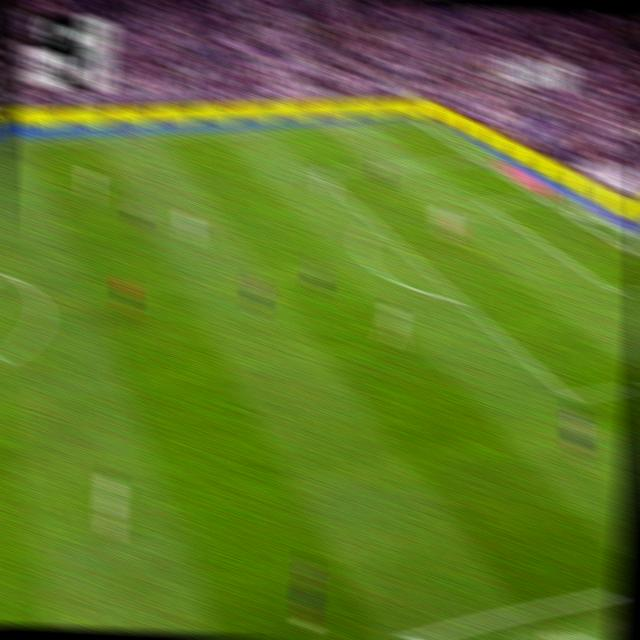bigarea_bottom_inner: (559, 382, 580, 410)
bigarea_top_inner: (313, 166, 328, 180)
bottom_arc_area_intersection: (450, 289, 469, 309)
smallarea_bottom_inner: (607, 281, 626, 302)
smallarea_top_inner: (478, 196, 494, 210)
top_arc_area_intersection: (366, 213, 384, 232)
